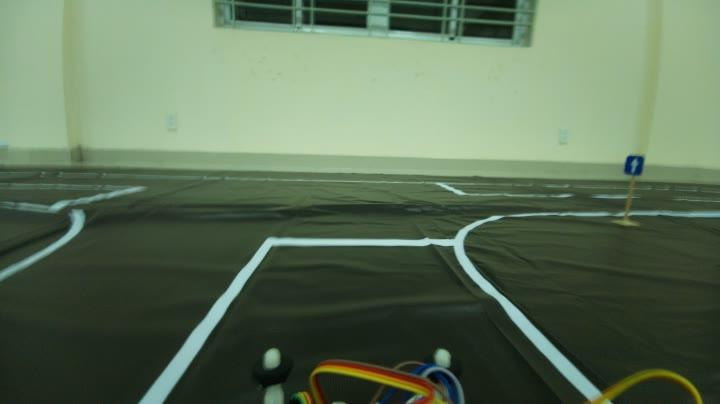onewayroad: (622, 150, 648, 179)
